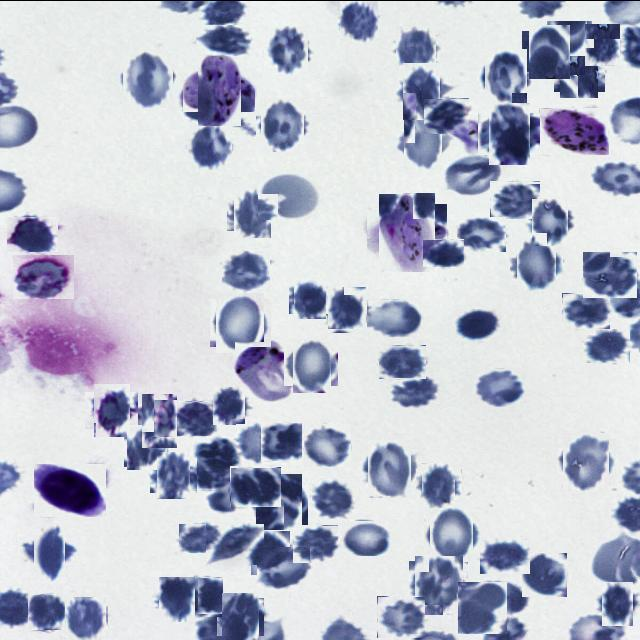gametocyte: (539, 107, 609, 154)
leukocyte: (34, 463, 106, 516)
red blood cell: (121, 51, 176, 105), (258, 172, 321, 219), (214, 295, 268, 349), (412, 558, 466, 612), (560, 435, 612, 487), (484, 107, 536, 159), (13, 254, 74, 298), (253, 476, 306, 526), (364, 443, 415, 494), (190, 438, 240, 490), (582, 250, 637, 297), (458, 581, 507, 633), (427, 508, 477, 558), (544, 22, 594, 72), (206, 523, 264, 564), (443, 155, 502, 195), (482, 52, 530, 101), (262, 26, 310, 74), (259, 100, 307, 148), (400, 117, 448, 165), (398, 67, 446, 115), (526, 26, 574, 74), (513, 240, 560, 288), (257, 546, 310, 588), (288, 342, 334, 388), (366, 298, 421, 336), (187, 124, 232, 170), (230, 466, 281, 506), (89, 387, 134, 432), (304, 423, 351, 466), (377, 595, 425, 637), (221, 249, 270, 290), (471, 580, 530, 614), (474, 367, 525, 406), (522, 552, 567, 596), (27, 530, 72, 574), (174, 576, 223, 616), (558, 50, 602, 94), (394, 27, 438, 71), (137, 398, 181, 442), (490, 180, 540, 218), (230, 190, 274, 233), (125, 424, 168, 468), (6, 215, 58, 251), (326, 288, 368, 331), (65, 596, 107, 638), (529, 200, 571, 242), (249, 531, 291, 573), (220, 595, 262, 637), (311, 478, 355, 518), (562, 292, 610, 328), (457, 216, 506, 251), (293, 524, 338, 562), (196, 24, 251, 55), (480, 539, 530, 573), (342, 520, 390, 555), (154, 454, 194, 496), (156, 578, 198, 618), (423, 97, 469, 133), (338, 0, 378, 41), (236, 423, 278, 462), (378, 344, 426, 378), (582, 24, 622, 64), (584, 328, 630, 362), (419, 464, 458, 504), (261, 422, 302, 460), (175, 400, 218, 435), (455, 308, 502, 340), (391, 377, 438, 408), (292, 278, 330, 316), (598, 584, 636, 622), (28, 594, 65, 630), (212, 387, 248, 423), (178, 522, 220, 552), (422, 238, 464, 266)
trophozoite: (374, 198, 442, 266), (235, 341, 293, 400), (190, 60, 248, 118)
